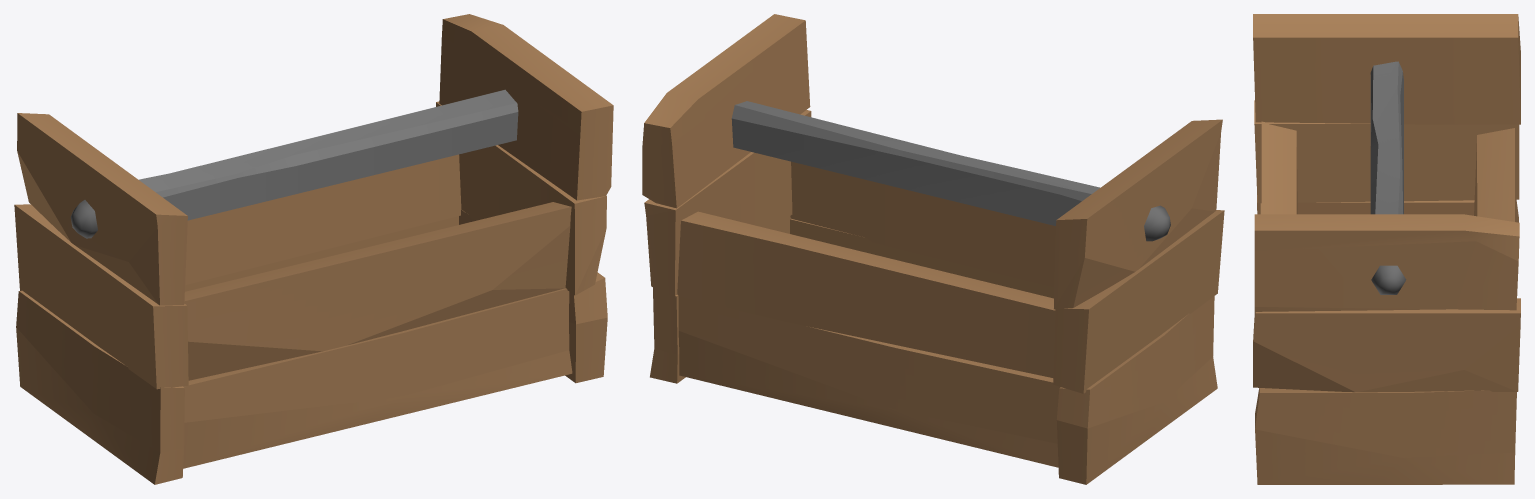
Rendered from Bucket_Wood_B.fbx.
3 views of the same model, side by side, from view 1: azimuth 30°, elevation 25°; view 2: azimuth 150°, elevation 25°; view 3: azimuth 270°, elevation 25° (orthographic). The views are drawn at different scales.
Parts seen in each view (by area): view 1: Bucket_Wood_B; view 2: Bucket_Wood_B; view 3: Bucket_Wood_B.
Boxes of the visible parts, <box> form: Bucket_Wood_B: <box>14,14,613,484</box>; Bucket_Wood_B: <box>642,14,1224,484</box>; Bucket_Wood_B: <box>1253,14,1520,484</box>.
Bounding box in the file's own units: 81.29 × 43.97 × 40.84.
